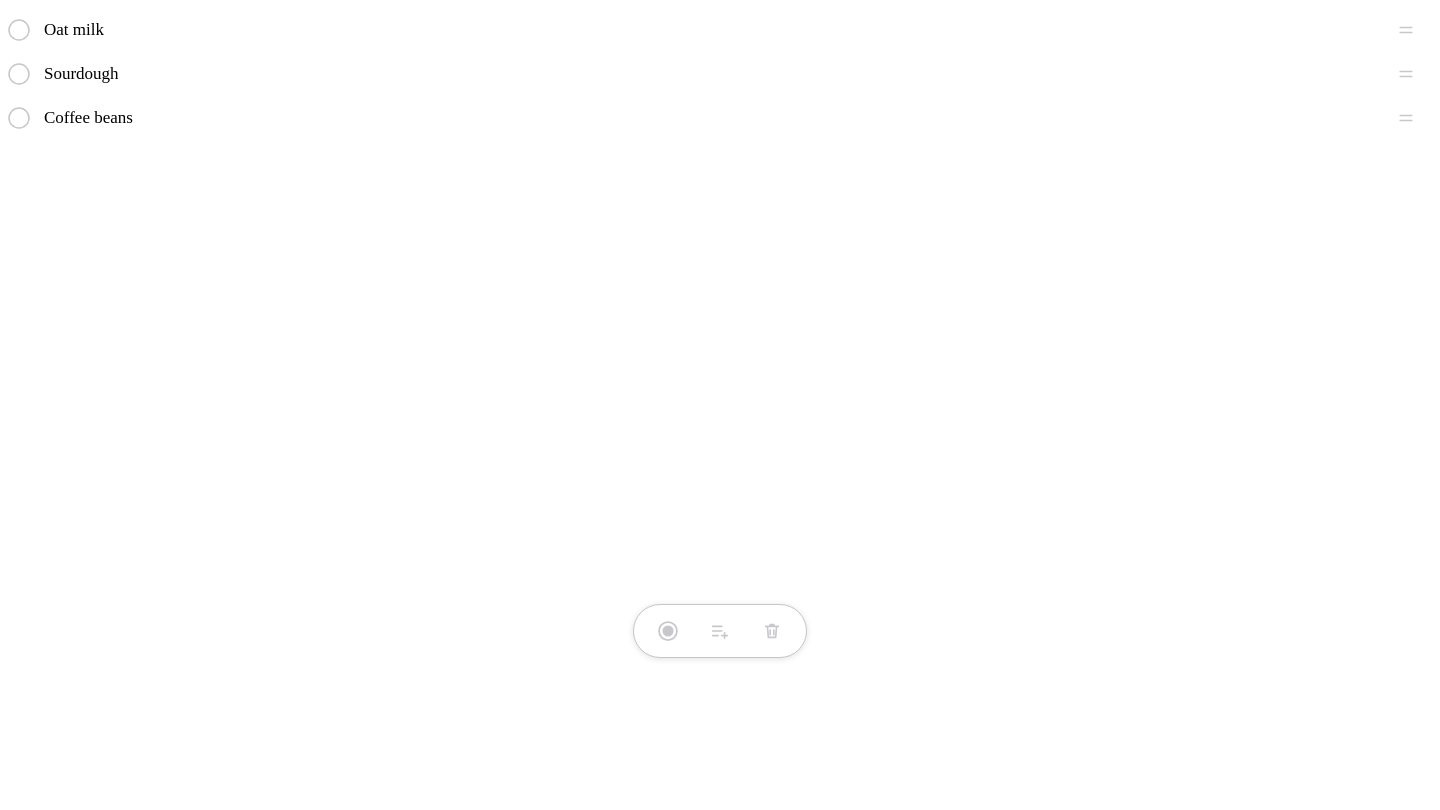
TaskList selection mode (Unit) › disarms a pending delete when another batch action is taken
Click the button "Oat milk": (74, 30) [44,8,1344,52]
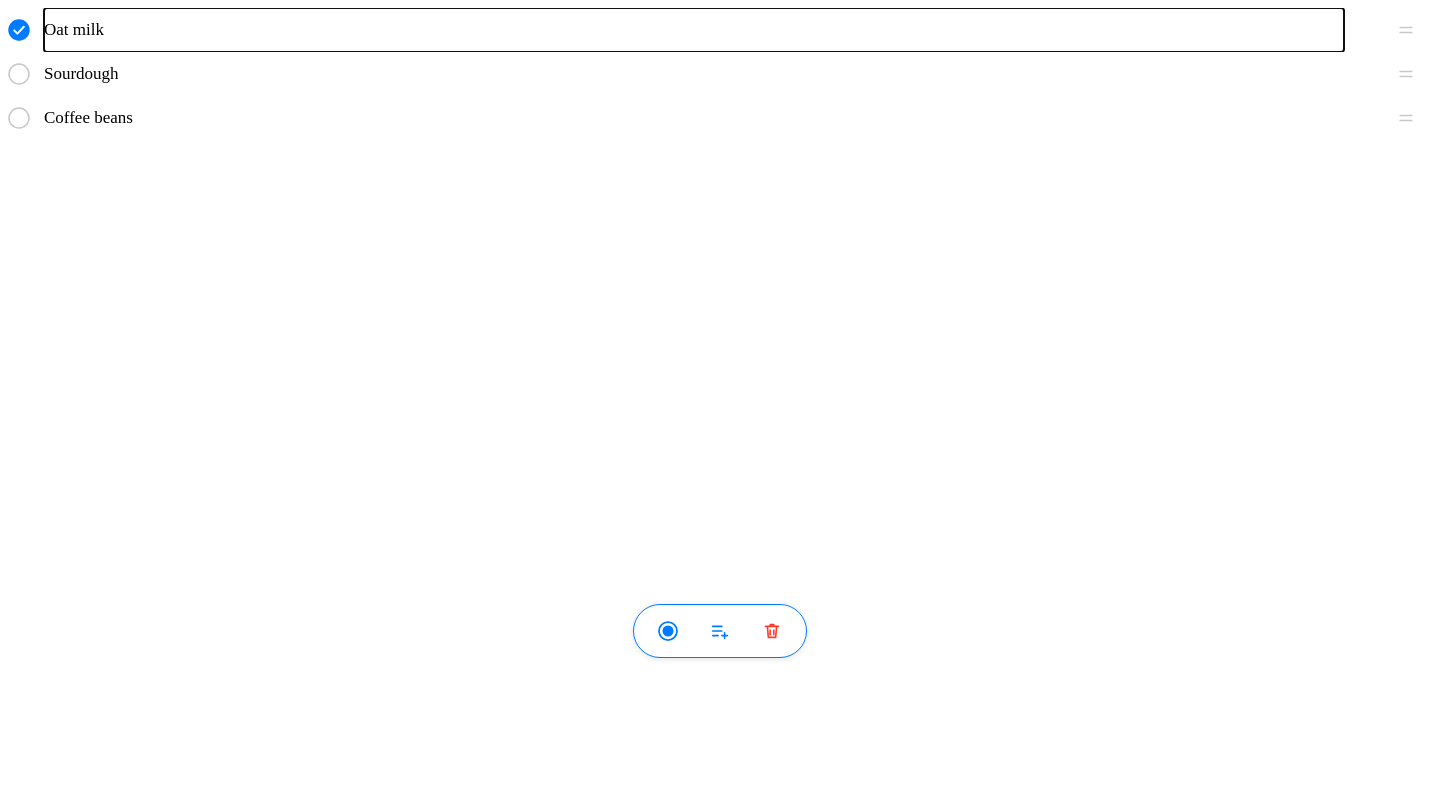
Click the button named "Delete selected tasks": (772, 631) [750,609,794,653]
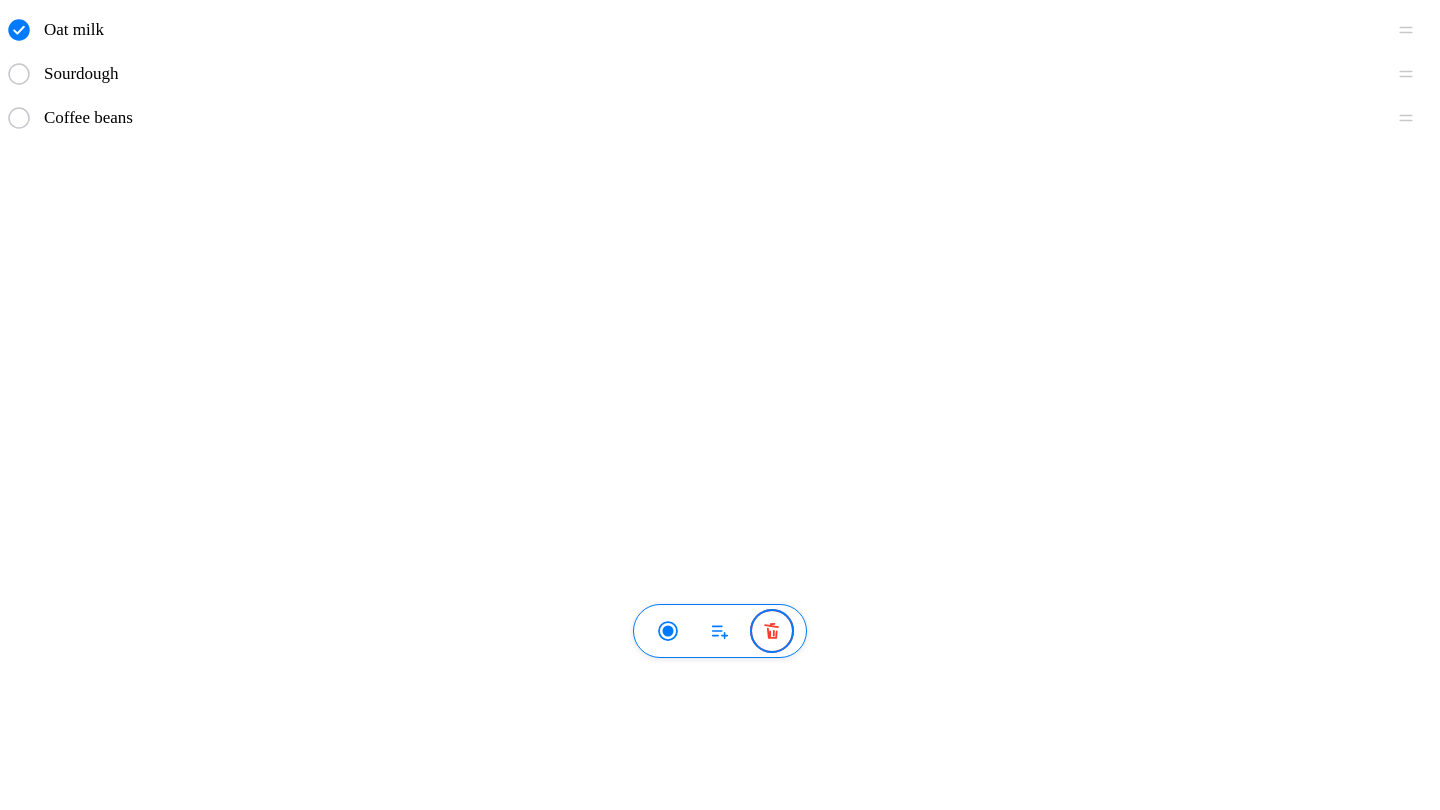
Click the button named "Move selected tasks": (720, 631) [698,609,742,653]
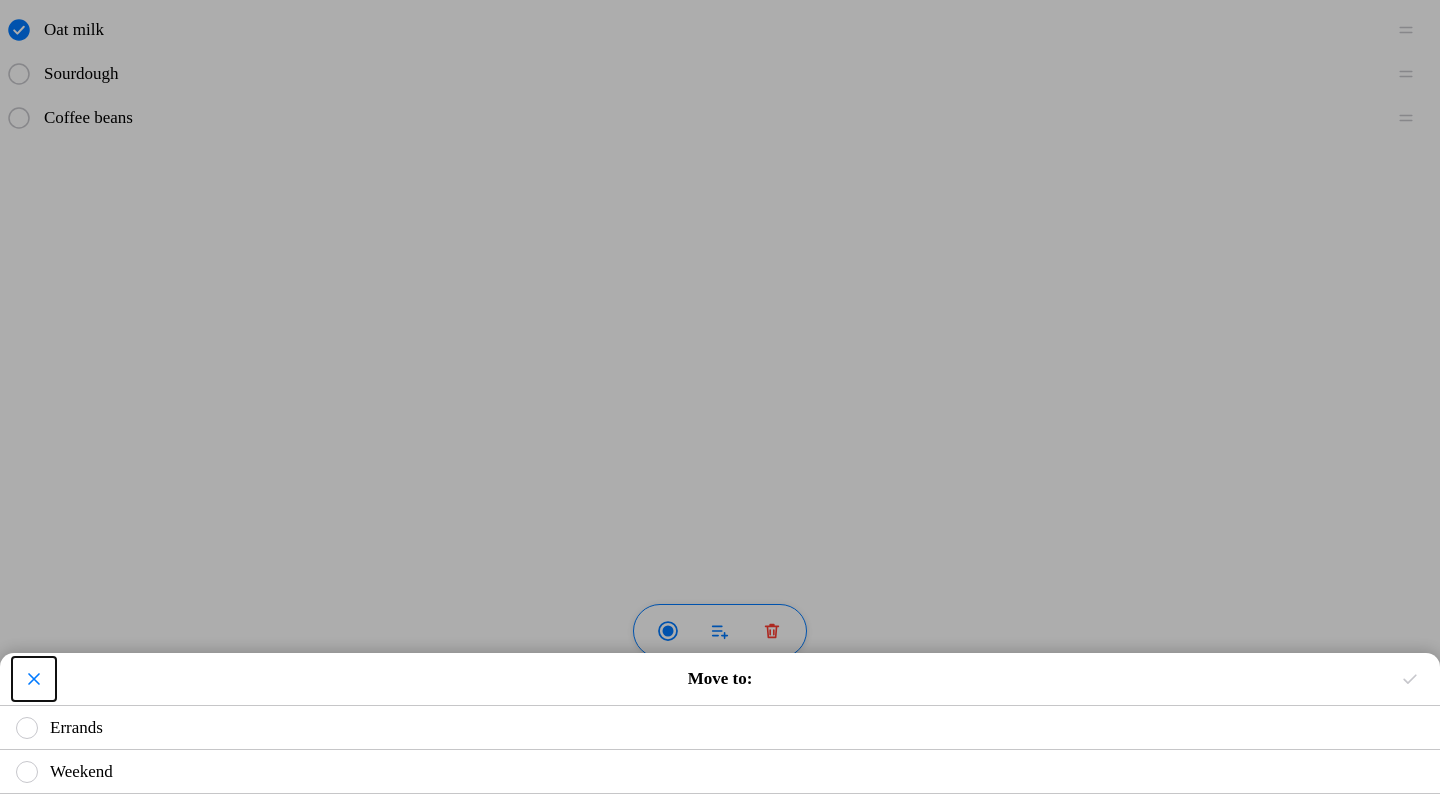
Expected: the button named "Delete selected tasks" is shown, [750,609,794,653]
